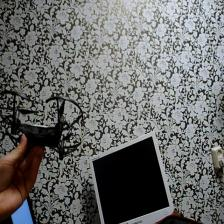drone: (1, 80, 86, 169)
